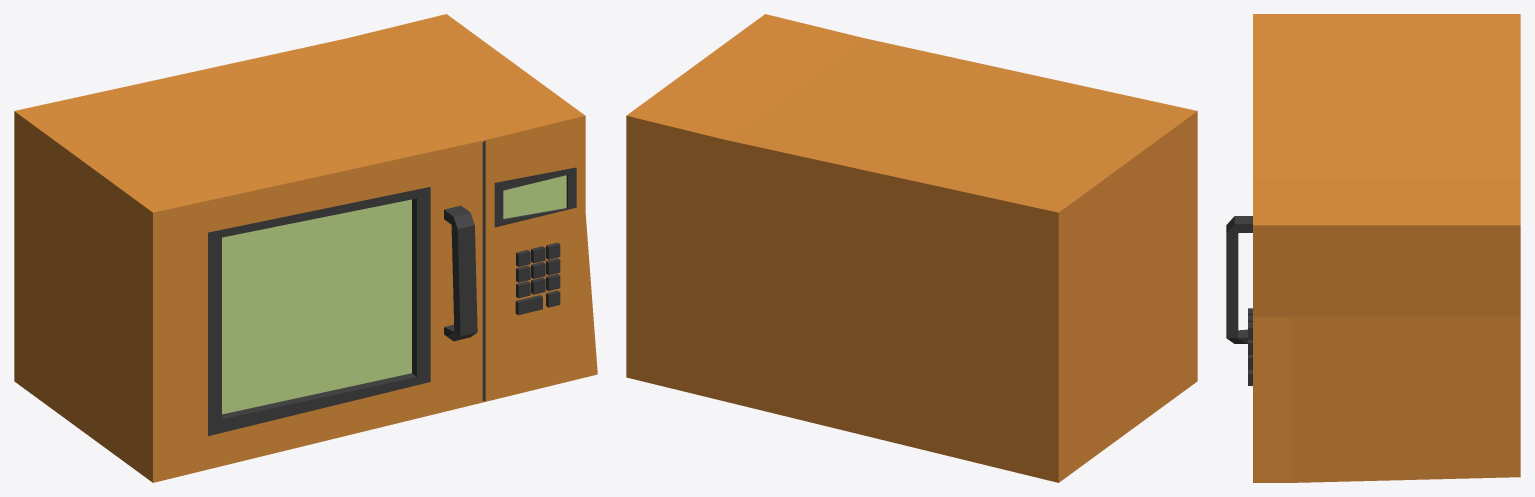
Rendered from microwave.fbx.
3 views of the same model, side by side, from view 1: azimuth 30°, elevation 25°; view 2: azimuth 150°, elevation 25°; view 3: azimuth 270°, elevation 25° (orthographic). The views are drawn at different scales.
Visible parts, largest first — view 1: Microwave; view 2: Microwave; view 3: Microwave.
Boxes of the visible parts, x1,y1,x2,y2 form: Microwave: (14,14,597,482); Microwave: (626,14,1197,482); Microwave: (1226,14,1520,482).
Bounding box in the file's own units: 136 × 80.95 × 79.02.
